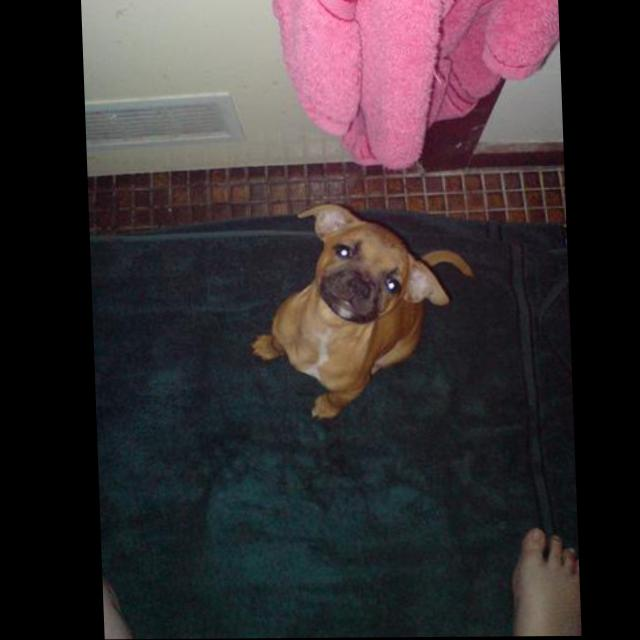staffford: (245, 202, 479, 424)
